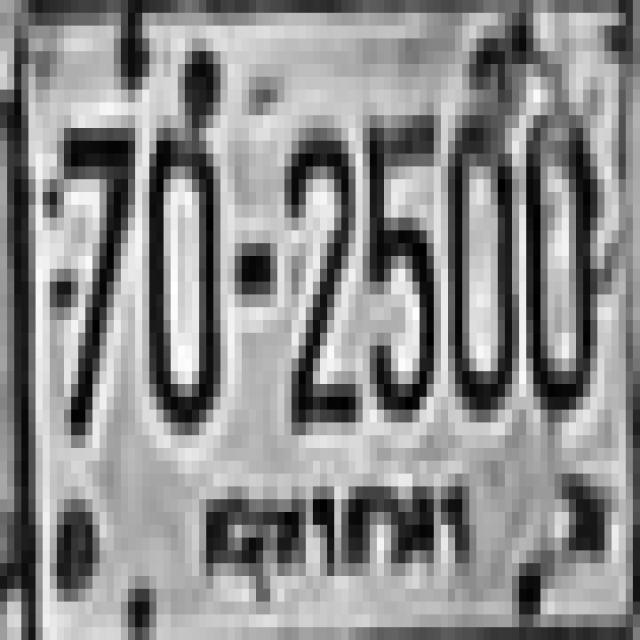0: (519, 103, 597, 410), (444, 103, 516, 410), (146, 109, 217, 416)
2: (284, 115, 356, 422)
5: (362, 103, 433, 410)
7: (57, 115, 128, 435)
SamutSakhon: (190, 454, 478, 614)
